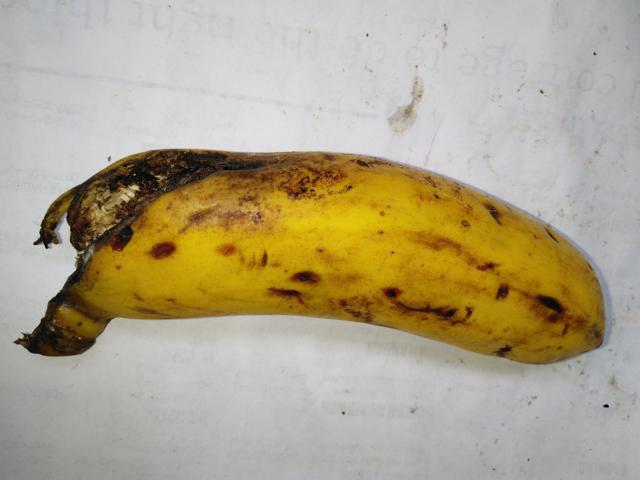ripe: (220, 131, 614, 385)
rotten: (29, 110, 222, 316)
